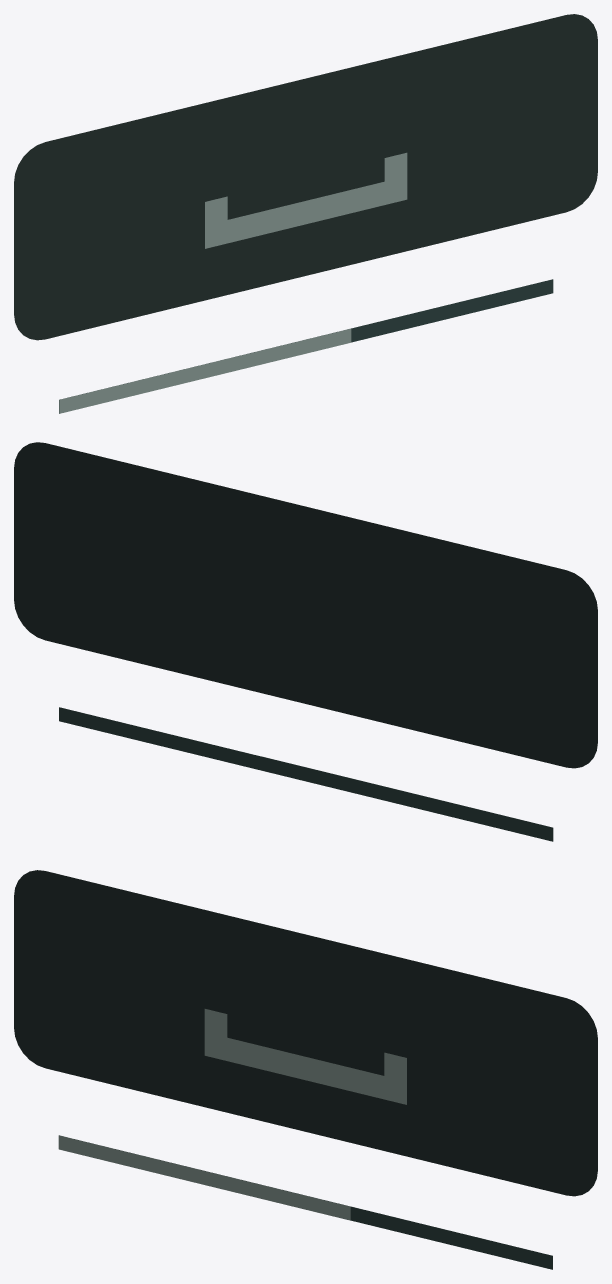
The model's file is Key_SpaceHold.gltf.
3 views of the same model, one above another, from view 1: azimuth 30°, elevation 25°; view 2: azimuth 150°, elevation 25°; view 3: azimuth 330°, elevation 25° (orthographic).
Visible parts, largest first — view 1: Key_SpaceHold_baked; view 2: Key_SpaceHold_baked; view 3: Key_SpaceHold_baked.
Boxes of the visible parts, x1,y1,x2,y2 form: Key_SpaceHold_baked: [14, 14, 597, 413]; Key_SpaceHold_baked: [14, 442, 597, 841]; Key_SpaceHold_baked: [14, 870, 597, 1269].
Bounding box in the file's own units: 2.6 × 1.17 × 0.002.
